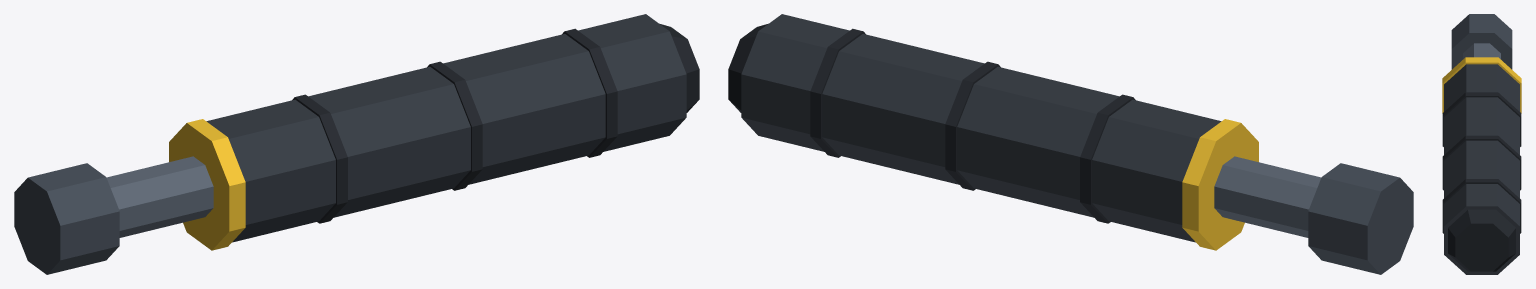
The model's file is barrel_suppressor.glb.
The picture shows the model from 3 angles, left to right: view 1: azimuth 30°, elevation 25°; view 2: azimuth 150°, elevation 25°; view 3: azimuth 270°, elevation 25°; orthographic projection. The views are drawn at different scales.
Parts seen in each view (by area): view 1: barrel_suppressor; view 2: barrel_suppressor; view 3: barrel_suppressor.
Part boxes in pixels (box(x1,y1,x2,y2)): barrel_suppressor: box(14, 14, 699, 274); barrel_suppressor: box(728, 14, 1413, 274); barrel_suppressor: box(1442, 14, 1521, 274).
Bounding box in the file's own units: 0.238 × 0.0388 × 0.0388.
